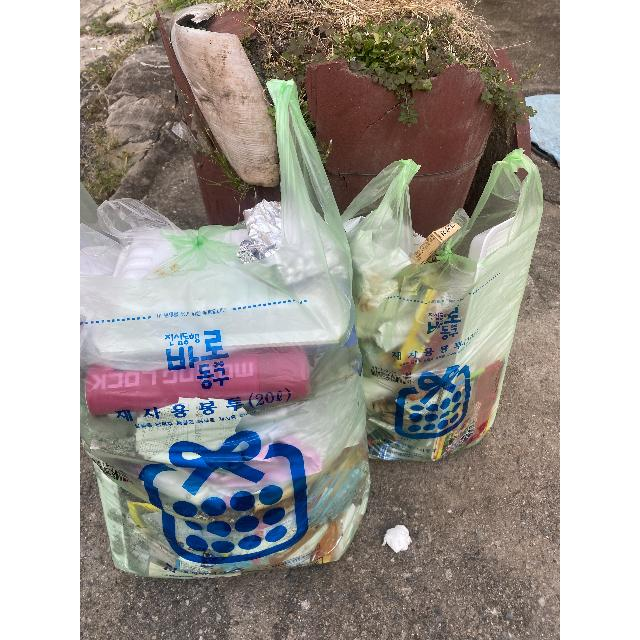general_trashbag: (80, 190, 359, 590), (326, 149, 553, 473)
